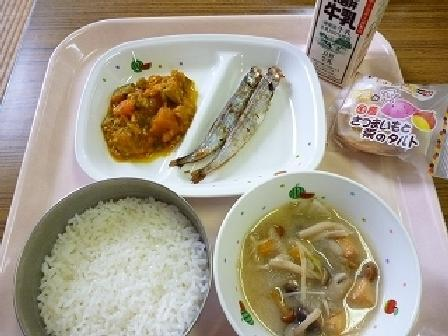Fish: (184, 52, 295, 177)
Milk: (299, 0, 390, 84)
Rice: (16, 183, 216, 335)
Soups: (219, 172, 411, 335)
cooked food meat with vegetables: (89, 67, 195, 158)
